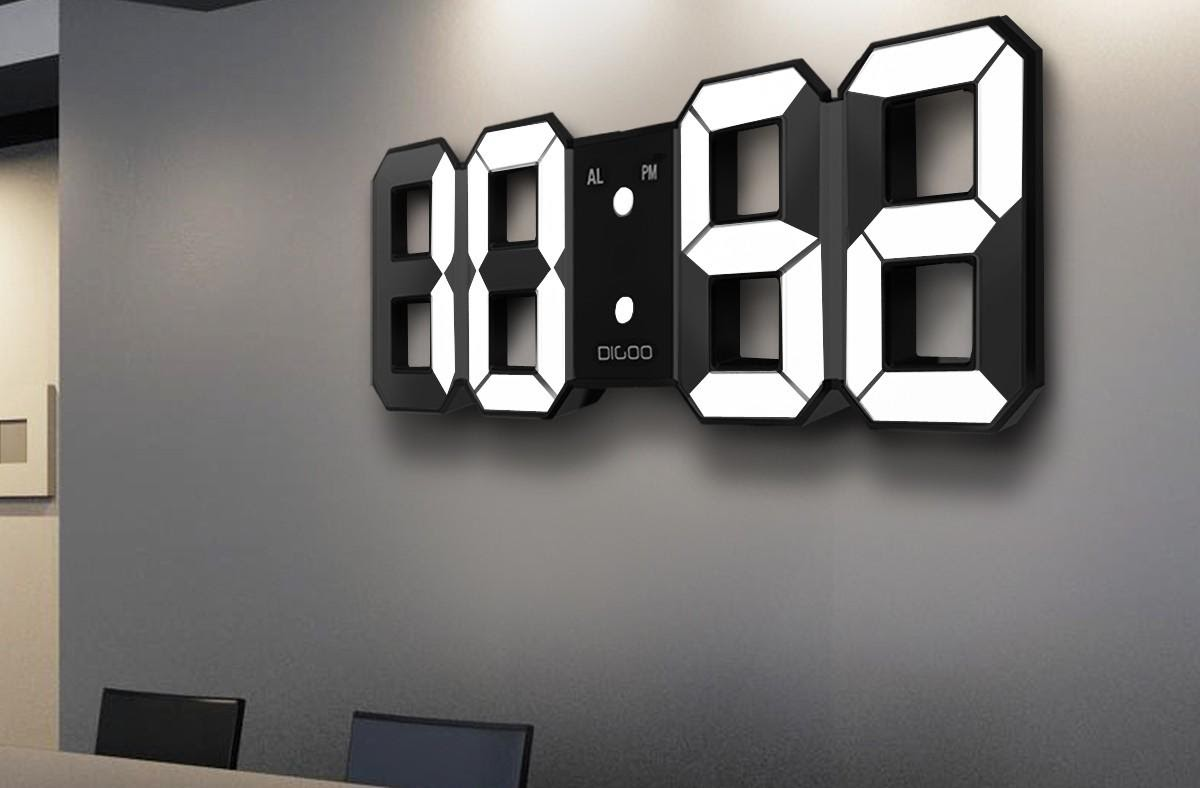jam dinding: (353, 1, 1113, 470)
